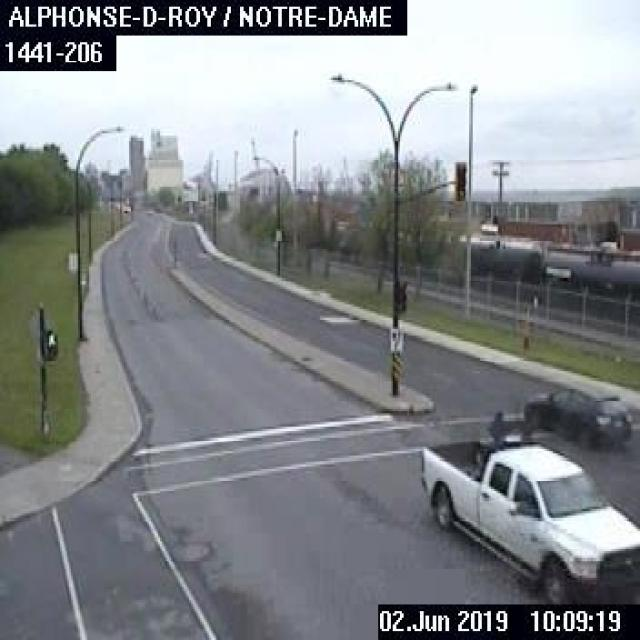vehicle: (418, 403, 638, 600), (517, 376, 634, 453)
